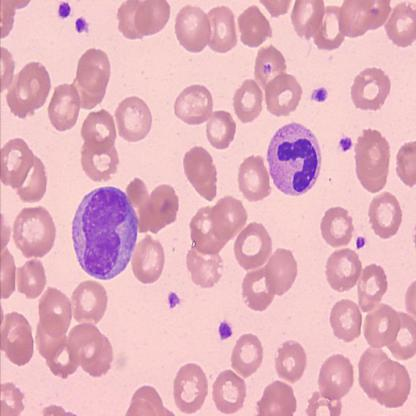Band Neutrophil: (266, 119, 324, 201)
